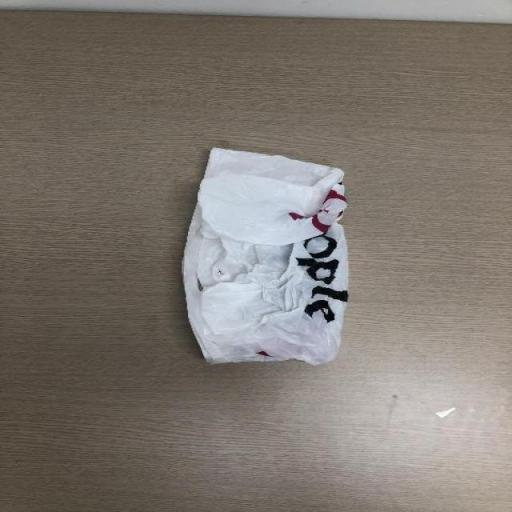plastic-bag: (178, 144, 348, 368)
